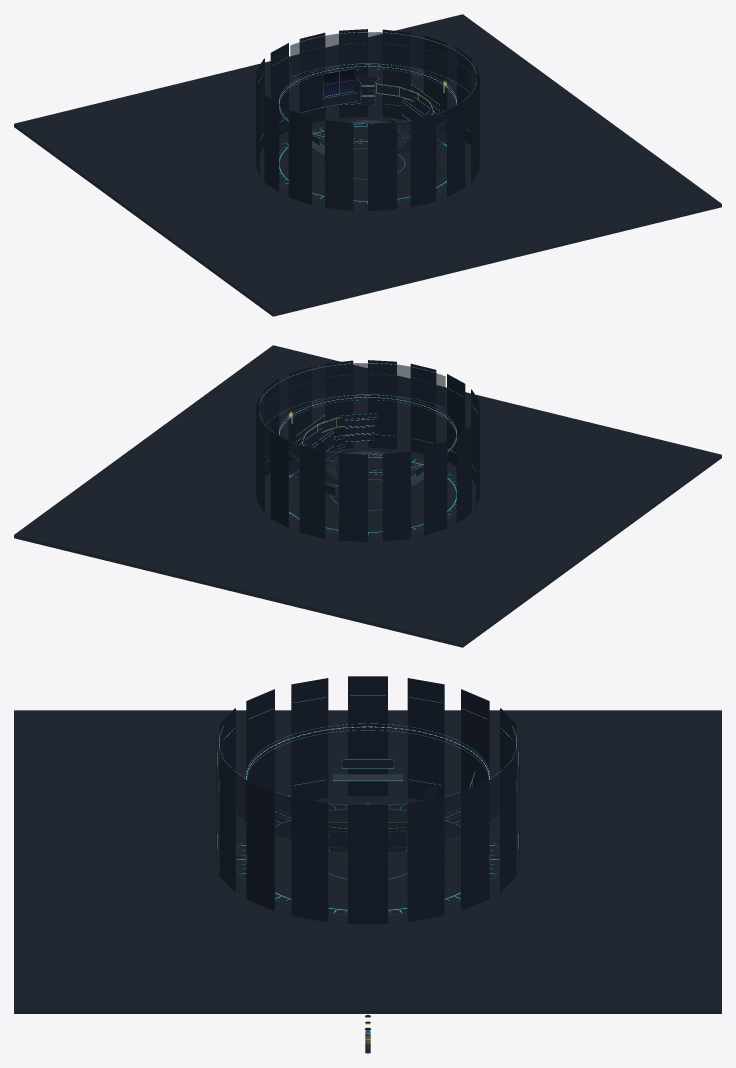
The model's file is world.glb.
3 renders of one model, top to bottom at view 1: azimuth 30°, elevation 25°; view 2: azimuth 150°, elevation 25°; view 3: azimuth 270°, elevation 25°, orthographic. The views are drawn at different scales.
Parts seen in each view (by area): view 1: Floor, CocoonF, CocoonG, CocoonE, CocoonO, CocoonH, CocoonM, CocoonN, CocoonP, CocoonD, CocoonI, CocoonL (+14 smaller); view 2: Floor, CocoonL, CocoonK, CocoonD, CocoonM, CocoonE, CocoonJ, CocoonC, CocoonB, CocoonN, CocoonI, CocoonF (+13 smaller); view 3: Floor, CocoonA, CocoonB, CocoonP, CocoonH, CocoonJ, CocoonI, CocoonC, CocoonO, CocoonG, CocoonK, CocoonD (+7 smaller).
Boxes of the visible parts, left/top/right/bottom form: Floor: left=14, top=14, right=721, bottom=316; CocoonF: left=368, top=122, right=396, bottom=211; CocoonG: left=325, top=120, right=353, bottom=210; CocoonE: left=410, top=114, right=436, bottom=207; CocoonO: left=382, top=29, right=410, bottom=119; CocoonH: left=288, top=110, right=311, bottom=204; CocoonM: left=299, top=32, right=325, bottom=123; CocoonN: left=339, top=29, right=367, bottom=118; CocoonP: left=424, top=35, right=447, bottom=129; CocoonD: left=447, top=100, right=465, bottom=197; CocoonI: left=264, top=94, right=279, bottom=192; CocoonL: left=270, top=43, right=288, bottom=135; Floor: left=14, top=345, right=721, bottom=647; CocoonL: left=339, top=453, right=367, bottom=542; CocoonK: left=382, top=451, right=410, bottom=541; CocoonD: left=368, top=360, right=396, bottom=449; CocoonM: left=299, top=445, right=325, bottom=538; CocoonE: left=410, top=363, right=436, bottom=454; CocoonJ: left=424, top=441, right=447, bottom=535; CocoonC: left=325, top=360, right=353, bottom=450; CocoonB: left=288, top=366, right=311, bottom=460; CocoonN: left=270, top=431, right=288, bottom=528; CocoonI: left=456, top=425, right=471, bottom=523; CocoonF: left=447, top=374, right=465, bottom=466; Floor: left=14, top=710, right=721, bottom=1013; CocoonA: left=348, top=804, right=387, bottom=923; CocoonB: left=291, top=796, right=328, bottom=922; CocoonP: left=407, top=796, right=444, bottom=922; CocoonH: left=291, top=678, right=328, bottom=800; CocoonJ: left=407, top=678, right=444, bottom=800; CocoonI: left=348, top=676, right=387, bottom=795; CocoonC: left=246, top=780, right=274, bottom=910; CocoonO: left=461, top=780, right=489, bottom=910; CocoonG: left=246, top=689, right=274, bottom=791; CocoonK: left=461, top=689, right=489, bottom=791; CocoonD: left=219, top=757, right=235, bottom=891.
Size of what is drawn, in the model's own units: 14 by 5.68 by 14.
Materials: 21 (5 with a texture image).
